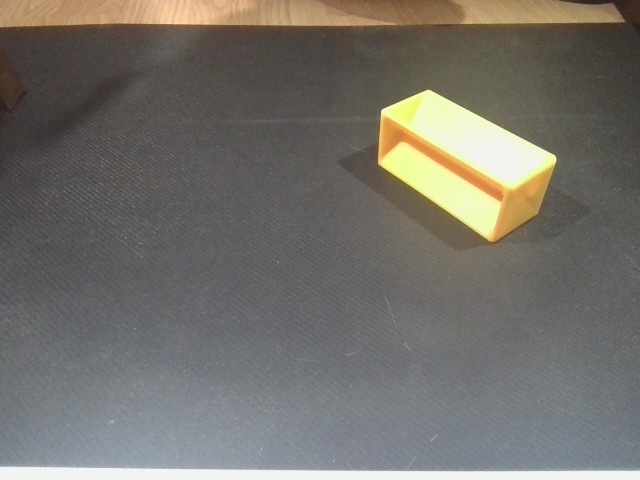YellowSample: (375, 88, 559, 247)
